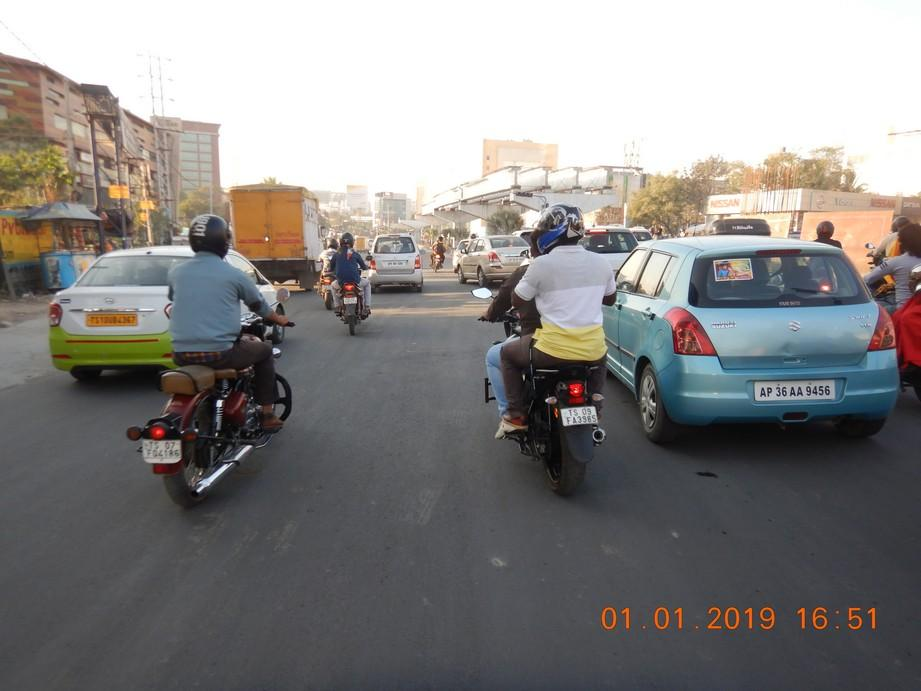plate: (140, 438, 182, 463), (559, 406, 601, 427)
